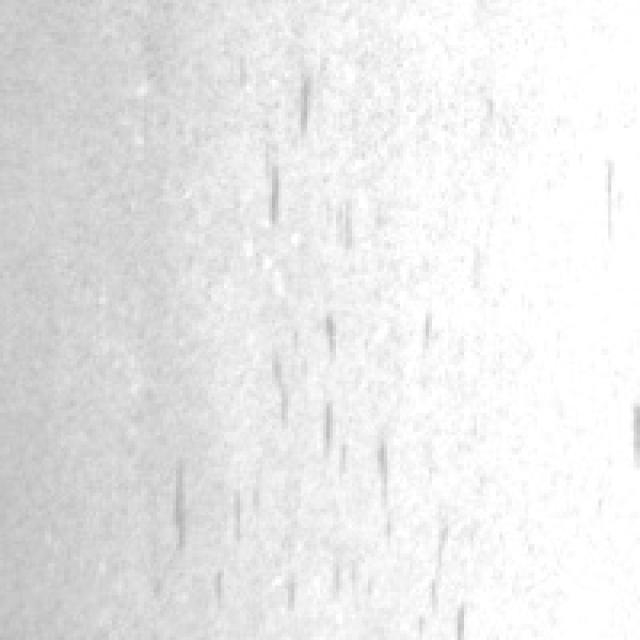inclusion: (233, 298, 422, 595)
